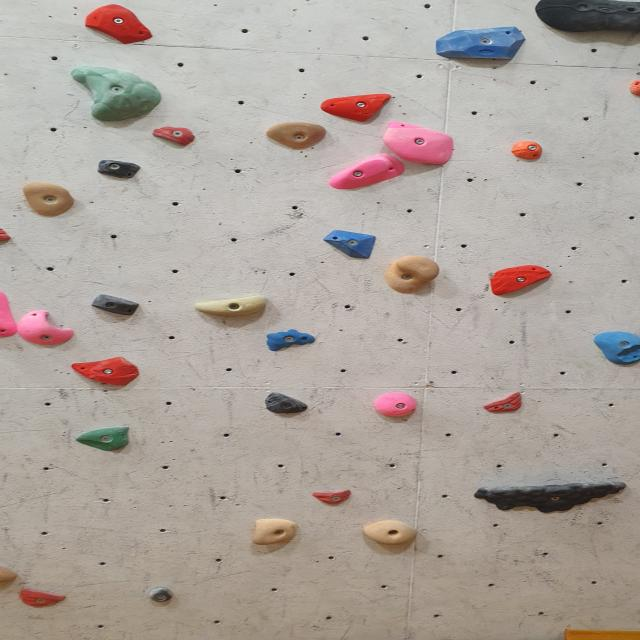Crimp: (440, 27, 527, 62), (329, 152, 401, 191), (85, 4, 152, 45), (321, 95, 394, 121), (79, 357, 141, 387), (493, 265, 547, 295), (259, 392, 310, 414), (20, 586, 68, 608), (151, 125, 195, 145), (313, 487, 360, 503), (485, 392, 520, 412)
Jug: (478, 478, 622, 514), (379, 122, 452, 164), (17, 310, 73, 348), (261, 121, 330, 150), (388, 257, 443, 293), (20, 181, 74, 216), (367, 518, 426, 547), (251, 516, 296, 545)
Pinch: (199, 291, 272, 318), (92, 293, 140, 317), (376, 391, 418, 417), (98, 158, 139, 178), (513, 140, 545, 162), (148, 588, 172, 601)
Sloper: (76, 66, 160, 123), (530, 0, 640, 36), (593, 329, 640, 364), (327, 227, 378, 259), (83, 428, 139, 450), (264, 329, 316, 351), (0, 286, 17, 337)
